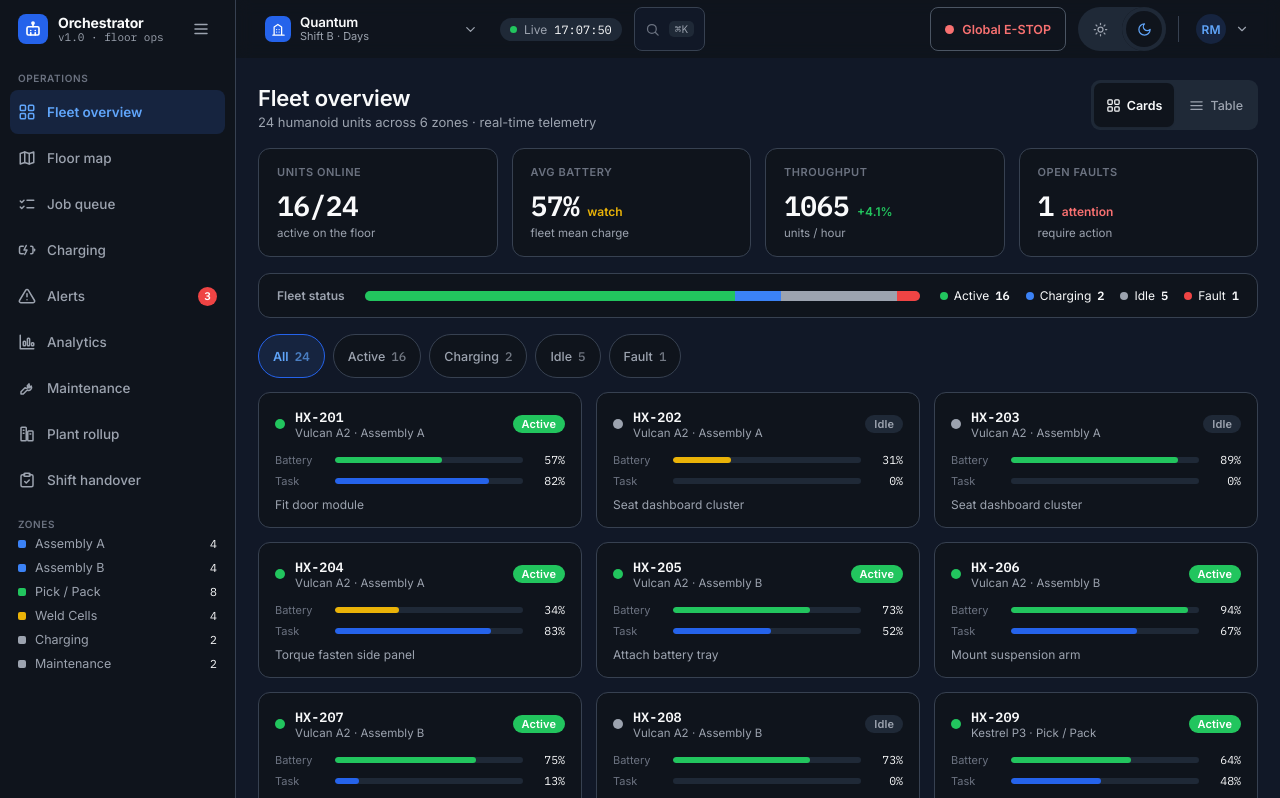
Test: alerts › Resolve removes the alert
Step 1. Click the button "Alerts 3" → (118, 296), box [10,274,225,318]
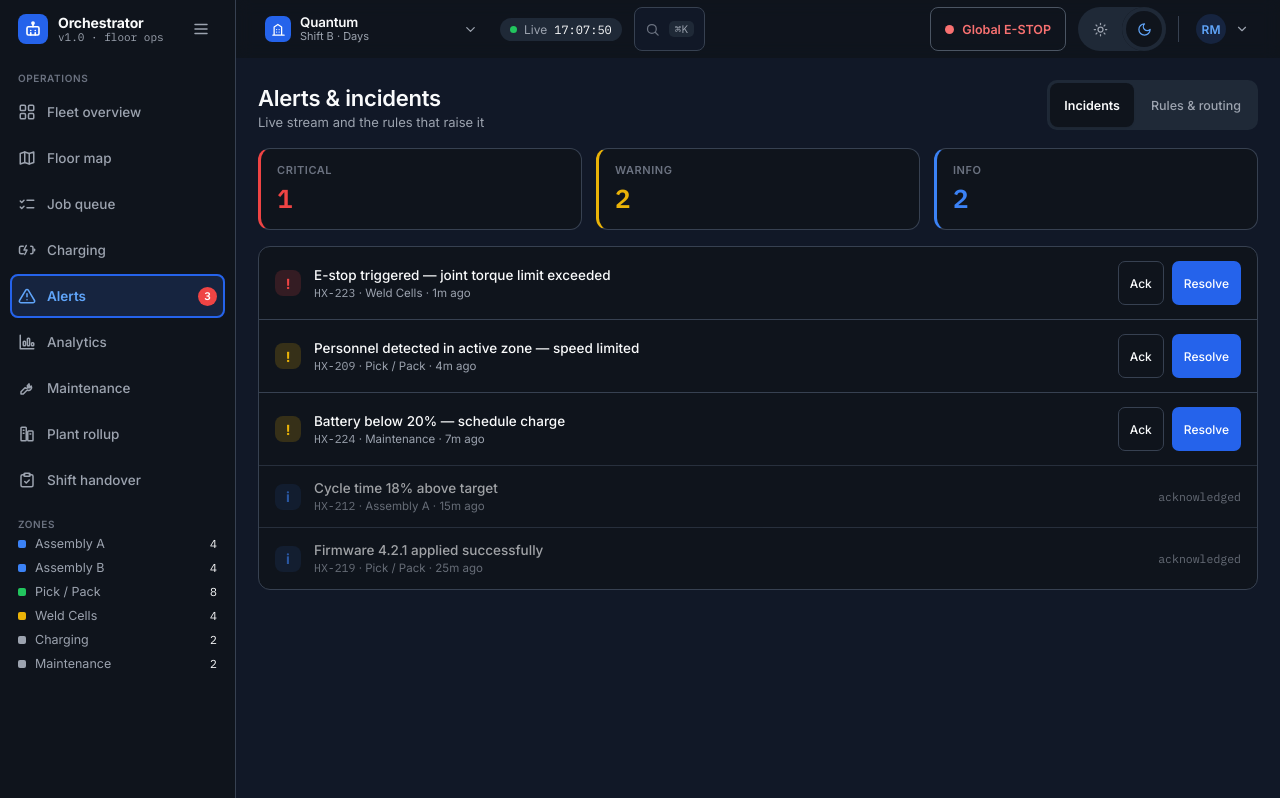
Step 2. Click the button "Resolve" in the row of "1m ago" → (1206, 283), box [1172,261,1241,305]
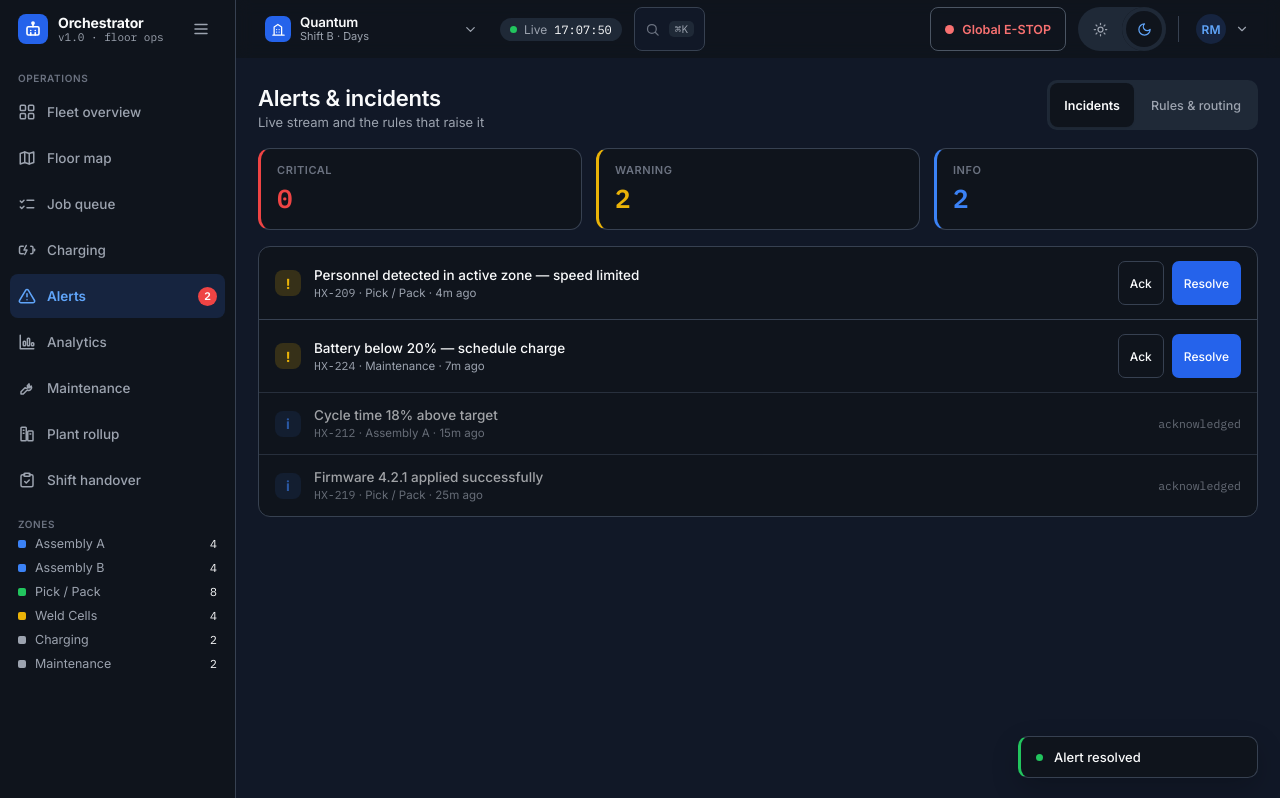
Expected: the text "E-stop triggered — joint torque limit exceeded" is gone
Expected: the message reads "Alert resolved", [1054,749,1141,765]
